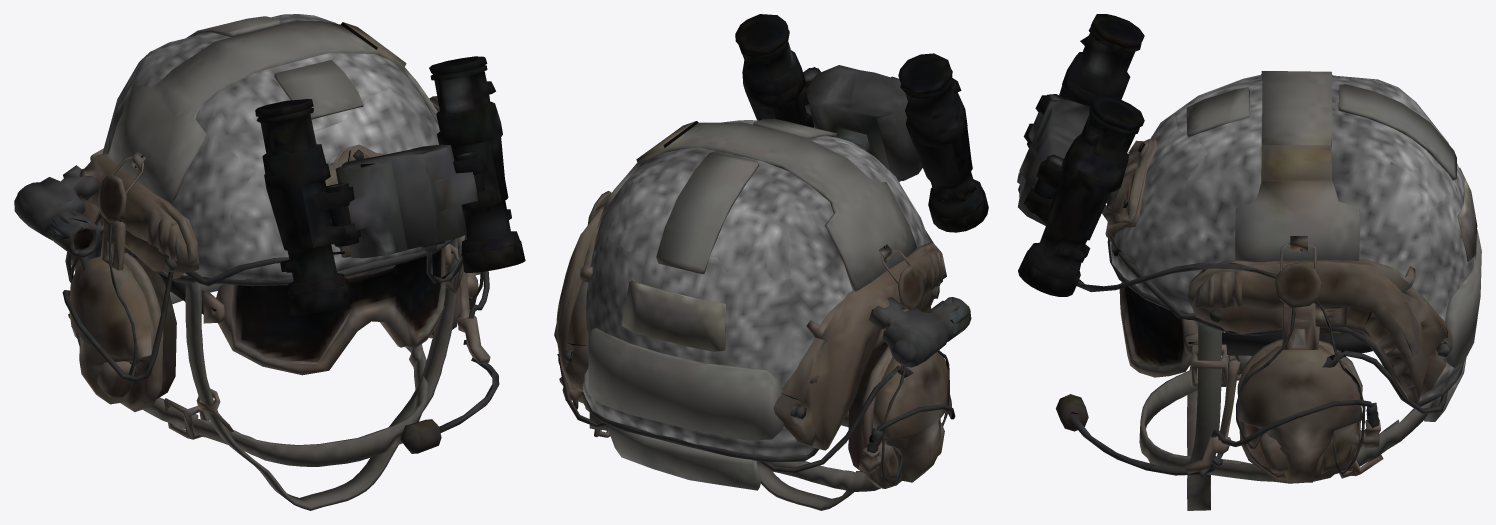
File: item.armor.drift_tactical_helmet.glb
3 views of the same model, side by side, from view 1: azimuth 30°, elevation 25°; view 2: azimuth 150°, elevation 25°; view 3: azimuth 270°, elevation 25° (orthographic). The views are drawn at different scales.
Parts seen in each view (by area): view 1: dop2; view 2: dop2; view 3: dop2.
Boxes of the visible parts, box(x1,y1,x2,y2) form: dop2: box(14, 14, 525, 510); dop2: box(554, 14, 988, 510); dop2: box(1017, 14, 1481, 510).
Bounding box in the file's own units: 1.16 × 1.2 × 1.14.
Materials: 1 (1 with a texture image).
